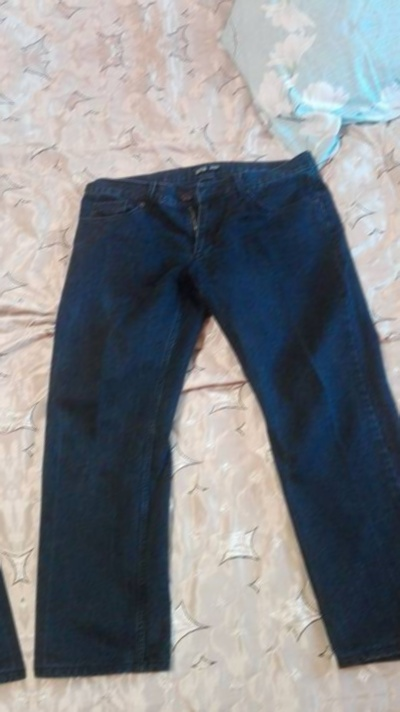Pants: (0, 130, 400, 697), (0, 173, 17, 712)
